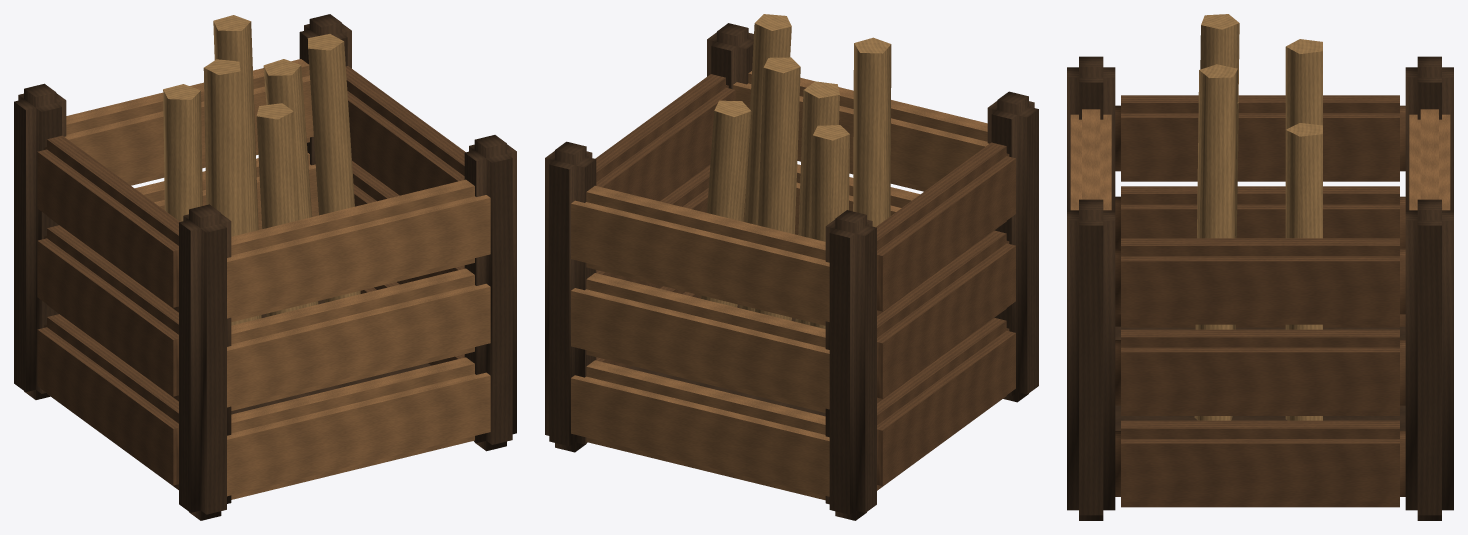
The model's file is crate-3.fbx.
3 views of the same model, side by side, from view 1: azimuth 30°, elevation 25°; view 2: azimuth 150°, elevation 25°; view 3: azimuth 270°, elevation 25° (orthographic). The views are drawn at different scales.
Parts seen in each view (by area): view 1: crate-3__Geometry; view 2: crate-3__Geometry; view 3: crate-3__Geometry.
Part boxes in pixels (box(x1,y1,x2,y2)): crate-3__Geometry: box(14, 14, 516, 520); crate-3__Geometry: box(545, 14, 1038, 520); crate-3__Geometry: box(1067, 14, 1453, 520).
Size of the model in its own units: 0.845 by 0.9477 by 0.845.
